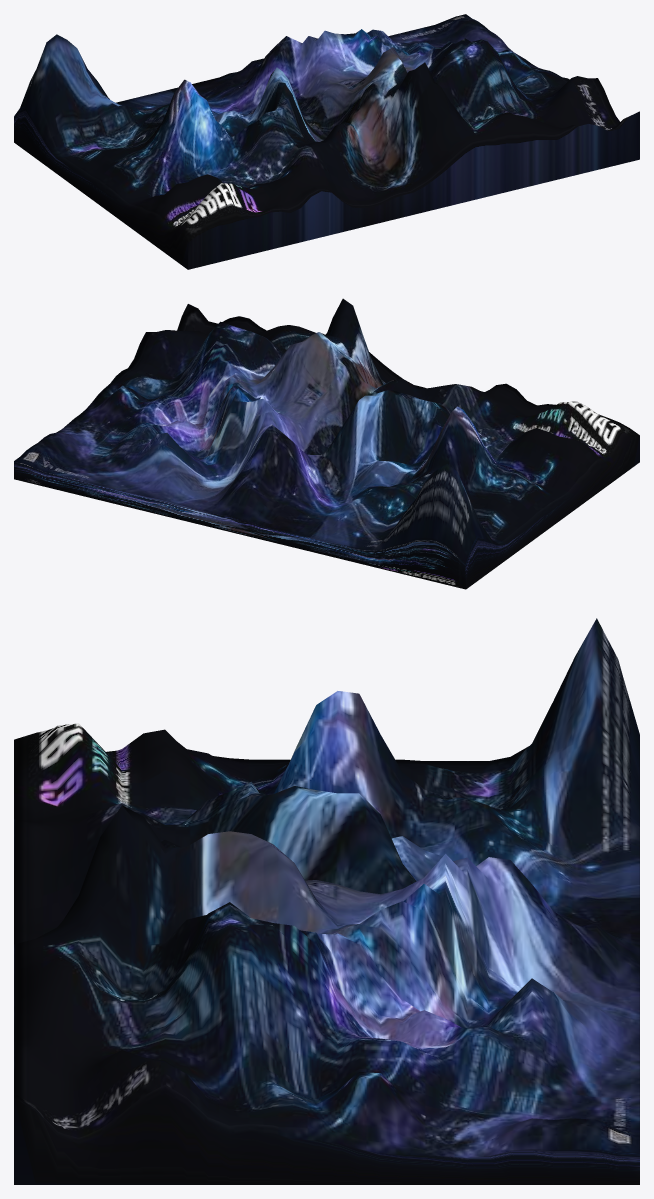
The model's file is CAREER_13_VFX_01_Research.glb.
The picture shows the model from 3 angles, top to bottom: view 1: azimuth 30°, elevation 25°; view 2: azimuth 150°, elevation 25°; view 3: azimuth 270°, elevation 25°; orthographic projection. The views are drawn at different scales.
Parts seen in each view (by area): view 1: CAREER_13_VFX_01_Research; view 2: CAREER_13_VFX_01_Research; view 3: CAREER_13_VFX_01_Research.
Part boxes in pixels (<box>): CAREER_13_VFX_01_Research: <box>14,14,639,269</box>; CAREER_13_VFX_01_Research: <box>14,298,639,589</box>; CAREER_13_VFX_01_Research: <box>14,618,639,1184</box>.
Size of the model in its own units: 2 by 0.51 by 1.33.
Materials: 1 (1 with a texture image).
